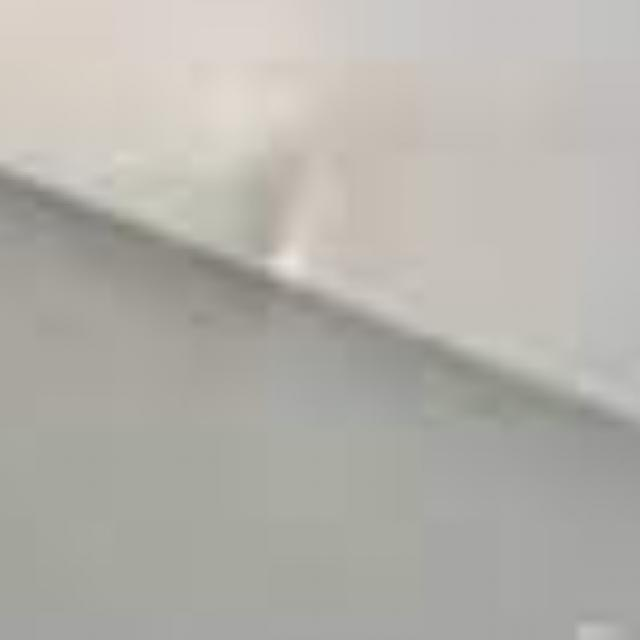dents: (225, 136, 312, 356)
